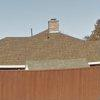Chimney: (42, 13, 68, 33)
